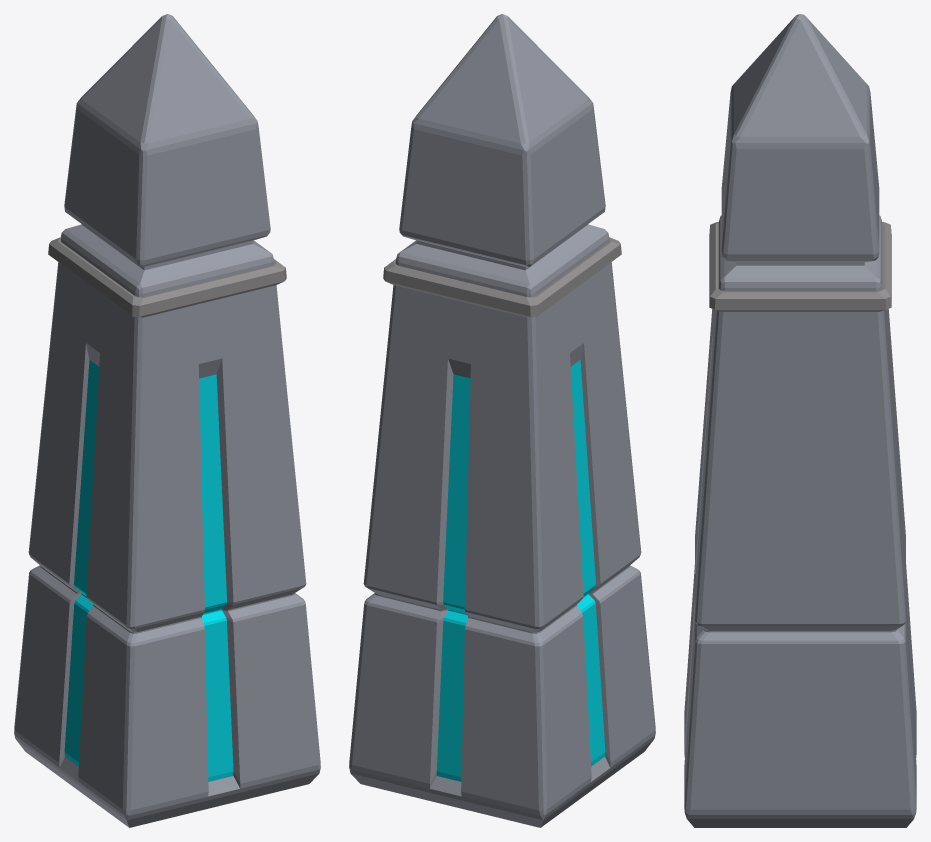
Rendered from obelisk_up.fbx.
3 renders of one model, left to right at view 1: azimuth 30°, elevation 25°; view 2: azimuth 150°, elevation 25°; view 3: azimuth 270°, elevation 25°, orthographic. The views are drawn at different scales.
Parts seen in each view (by area): view 1: LP_Obelisk_Up, LP_U_Ring; view 2: LP_Obelisk_Up, LP_U_Ring; view 3: LP_Obelisk_Up, LP_U_Ring.
Part boxes in pixels (left/top/right/bottom): LP_Obelisk_Up: left=14, top=14, right=320, bottom=827; LP_U_Ring: left=48, top=237, right=286, bottom=317; LP_Obelisk_Up: left=349, top=14, right=655, bottom=827; LP_U_Ring: left=383, top=237, right=621, bottom=317; LP_Obelisk_Up: left=684, top=14, right=916, bottom=827; LP_U_Ring: left=709, top=222, right=891, bottom=311.
Bounding box in the file's own units: 139 × 508 × 139.
